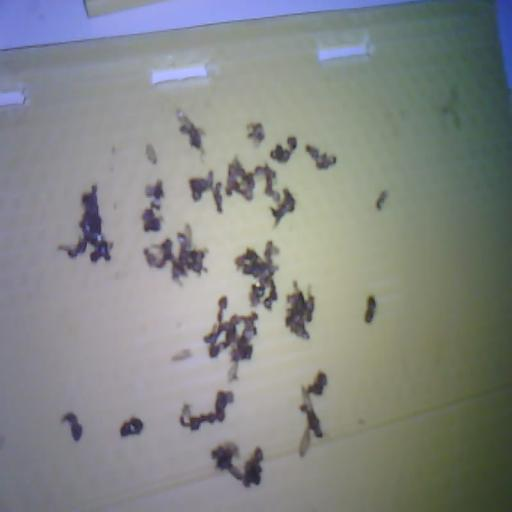Insects: (144, 224, 206, 284), (235, 241, 278, 309), (204, 297, 245, 357), (299, 372, 326, 456), (212, 443, 263, 487), (180, 390, 234, 430), (172, 224, 206, 283), (286, 282, 314, 338), (189, 170, 222, 212), (176, 110, 204, 154), (226, 158, 255, 200), (80, 185, 103, 237), (142, 181, 164, 232), (301, 387, 323, 437), (255, 164, 280, 202), (180, 404, 216, 430), (271, 189, 295, 226), (144, 239, 173, 267), (243, 448, 263, 487), (66, 236, 91, 267), (189, 171, 213, 201), (306, 145, 336, 168), (212, 443, 238, 469), (271, 137, 296, 162), (232, 341, 260, 363), (62, 413, 82, 442), (95, 240, 115, 268), (216, 391, 234, 421), (145, 181, 164, 209), (244, 159, 255, 206), (307, 371, 327, 395), (142, 208, 162, 232), (120, 418, 143, 436), (264, 280, 277, 309), (234, 318, 260, 332), (248, 123, 264, 145), (271, 145, 291, 162), (213, 182, 222, 213), (217, 296, 227, 323), (180, 404, 191, 426), (171, 349, 191, 361), (146, 144, 157, 164), (228, 361, 238, 382), (62, 413, 77, 424), (287, 137, 296, 151), (0, 436, 5, 449)
dust: (441, 87, 460, 129), (224, 360, 241, 382), (365, 296, 376, 323), (376, 191, 387, 209)
hole: (152, 65, 207, 84), (318, 44, 371, 61), (0, 91, 25, 107)
